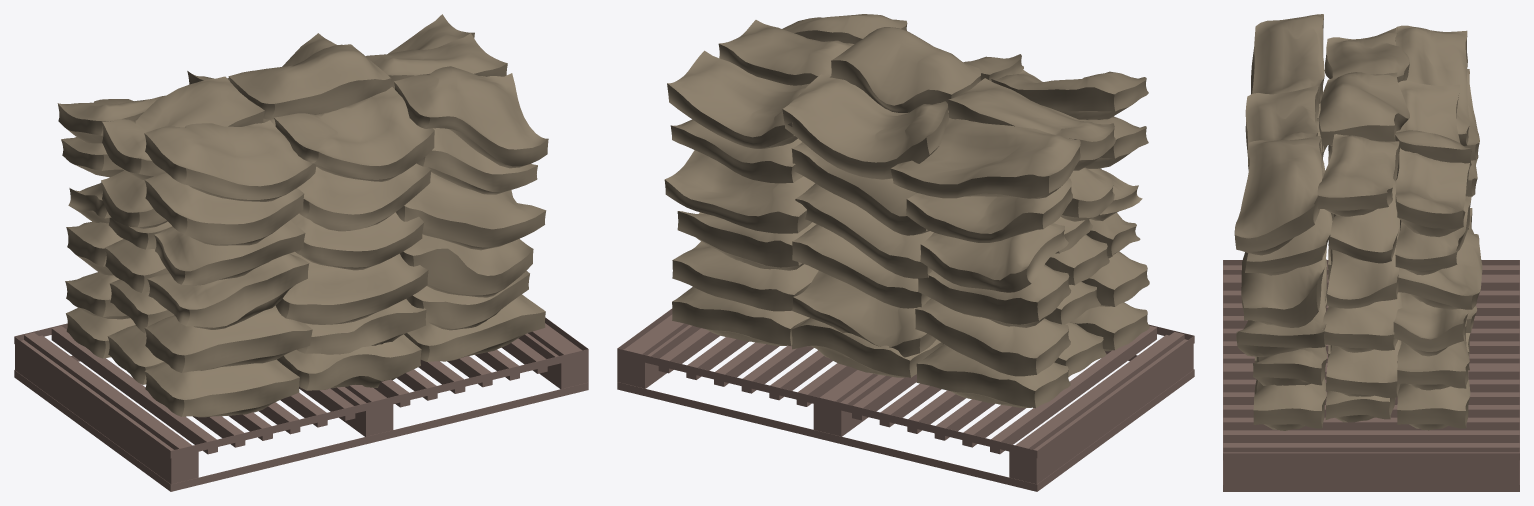
File: Sandbag stack.fbx
3 renders of one model, left to right at view 1: azimuth 30°, elevation 25°; view 2: azimuth 150°, elevation 25°; view 3: azimuth 270°, elevation 25°, orthographic. The views are drawn at different scales.
Parts seen in each view (by area): view 1: polySurface79; view 2: polySurface79; view 3: polySurface79.
Part boxes in pixels (x1,y1,x2,y2): polySurface79: [14, 14, 588, 491]; polySurface79: [617, 14, 1194, 491]; polySurface79: [1223, 14, 1519, 491].
Size of the model in its own units: 343 by 263 by 223.
